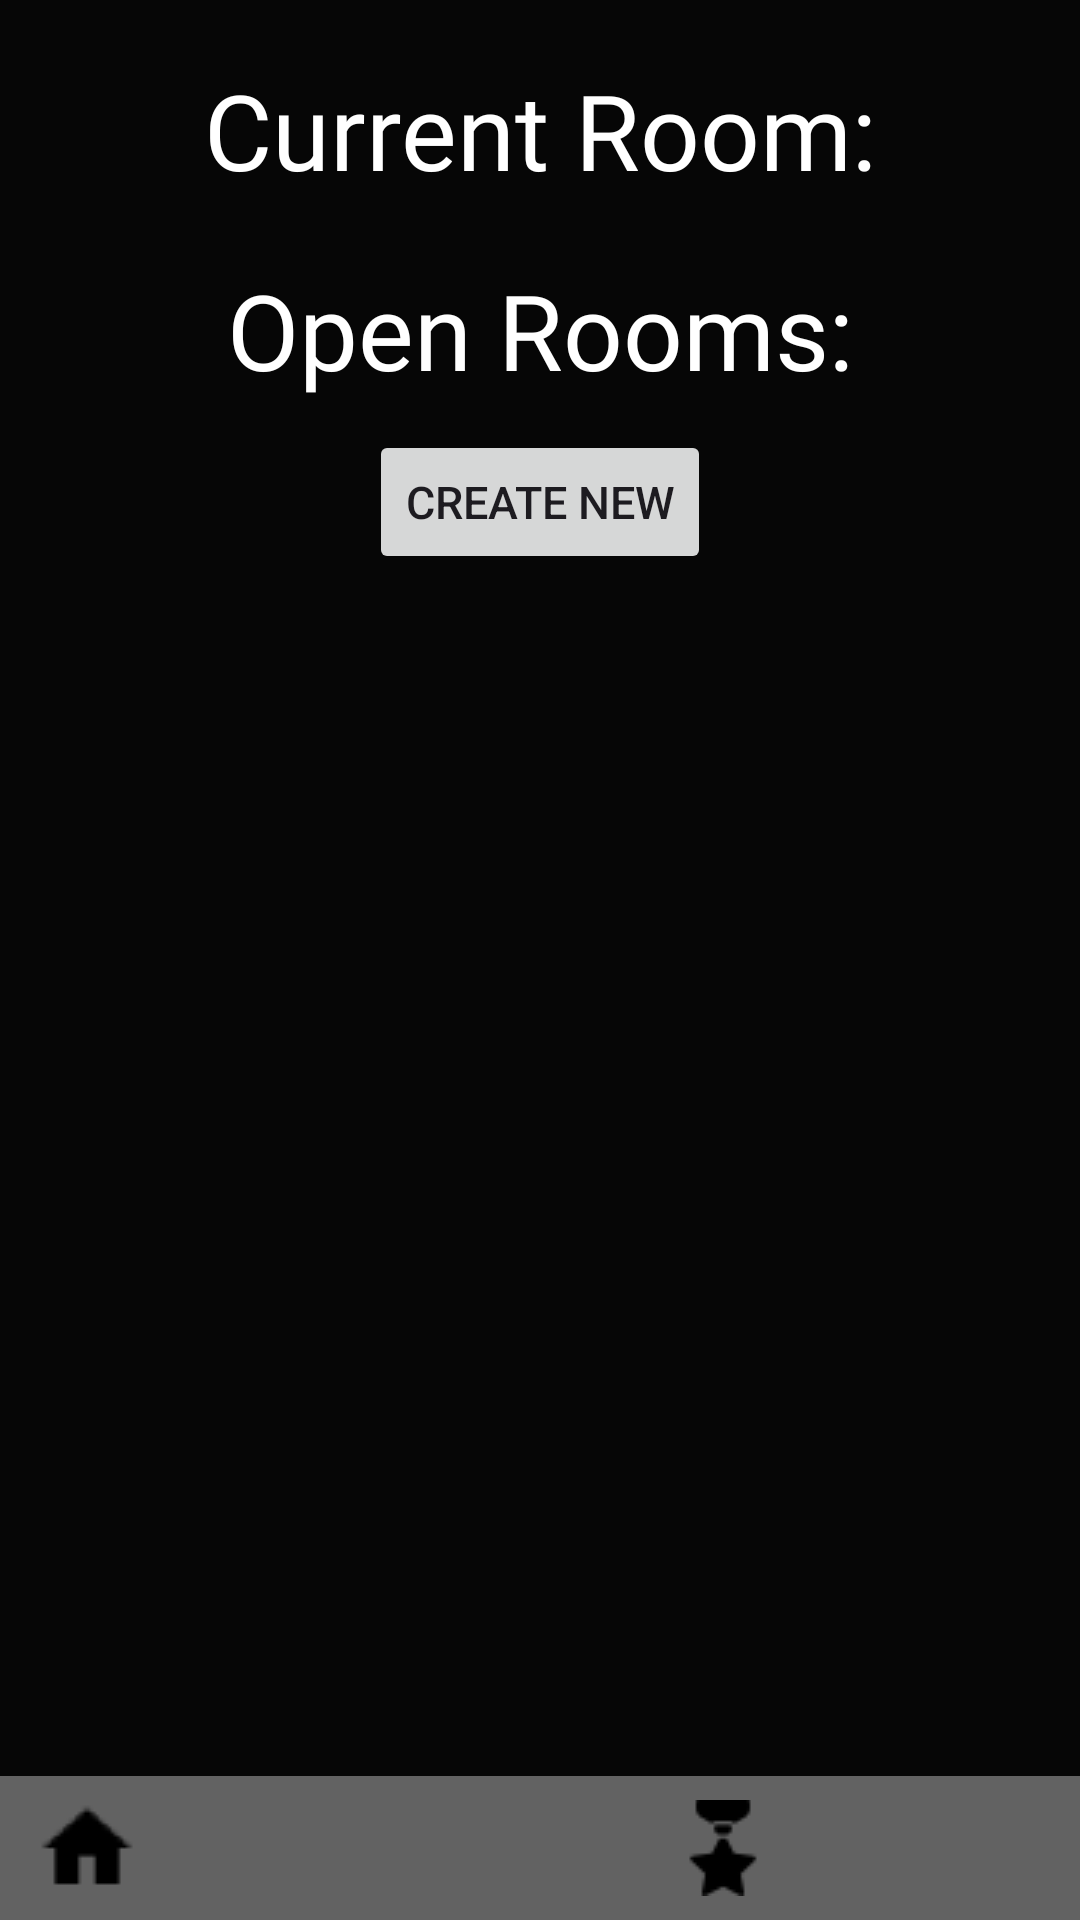

Icons on this 1080x1920 Android screen, each with its box as (x1=x1, y1=y1, x2=x2, y2=y2):
home: (x1=43, y1=1809, x2=131, y2=1885)
